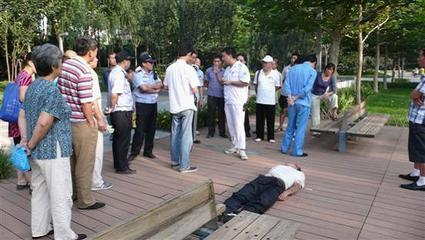Fall-Detected: (212, 154, 310, 218)
